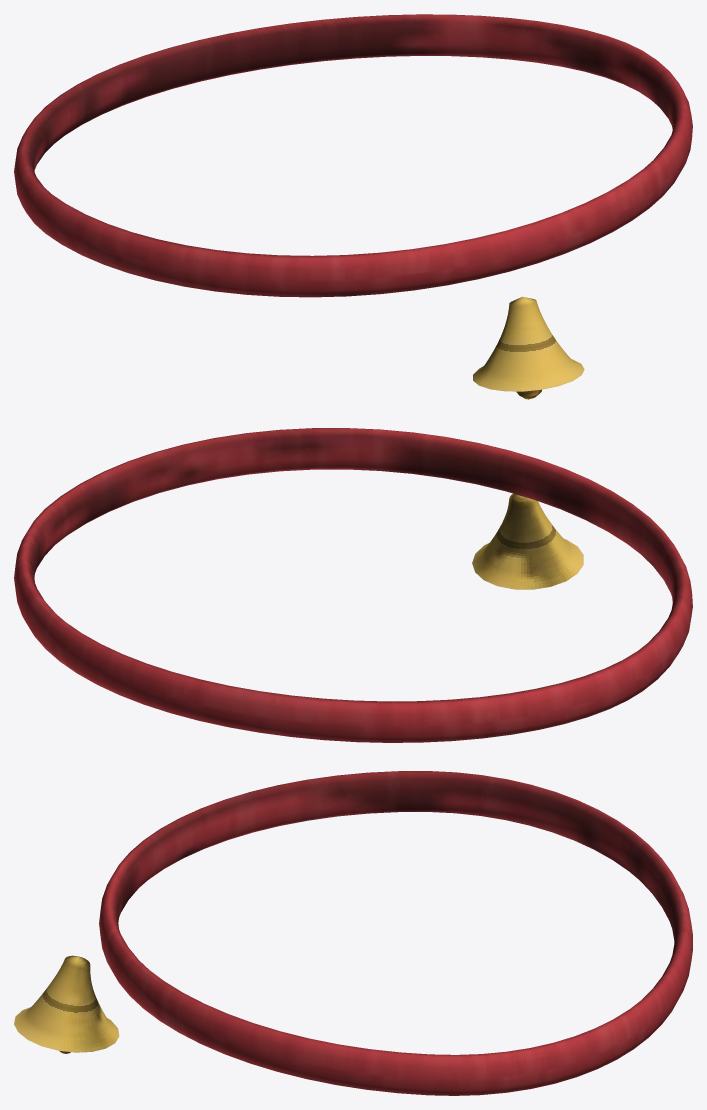
Rendered from bell.glb.
3 views of the same model, one above another, from view 1: azimuth 30°, elevation 25°; view 2: azimuth 150°, elevation 25°; view 3: azimuth 270°, elevation 25° (orthographic).
Parts seen in each view (by area): view 1: bell_ribbon, bell_bell; view 2: bell_ribbon, bell_bell; view 3: bell_ribbon, bell_bell.
Part boxes in pixels (x1,y1,x2,y2): bell_ribbon: (14, 14, 692, 297); bell_bell: (473, 296, 584, 391); bell_ribbon: (14, 428, 692, 742); bell_bell: (472, 493, 583, 589); bell_ribbon: (99, 771, 692, 1095); bell_bell: (14, 955, 119, 1052).
Size of the model in its own units: 23.84 by 5.76 by 23.43.
Materials: 1 (1 with a texture image).
